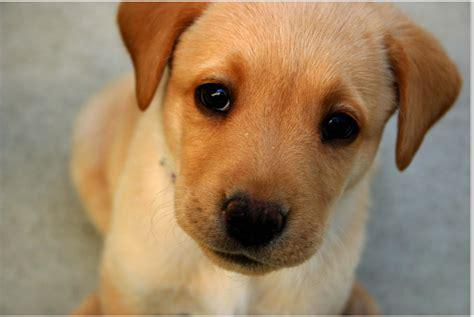dog: (71, 1, 461, 317)
